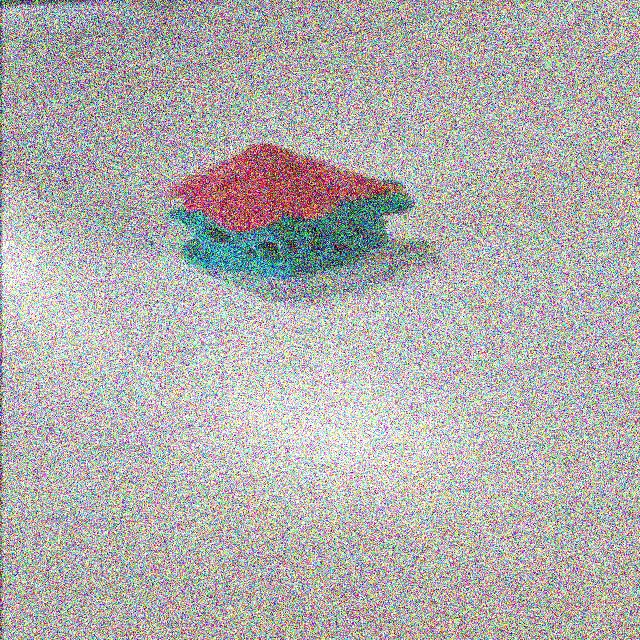House: (156, 133, 464, 309)
